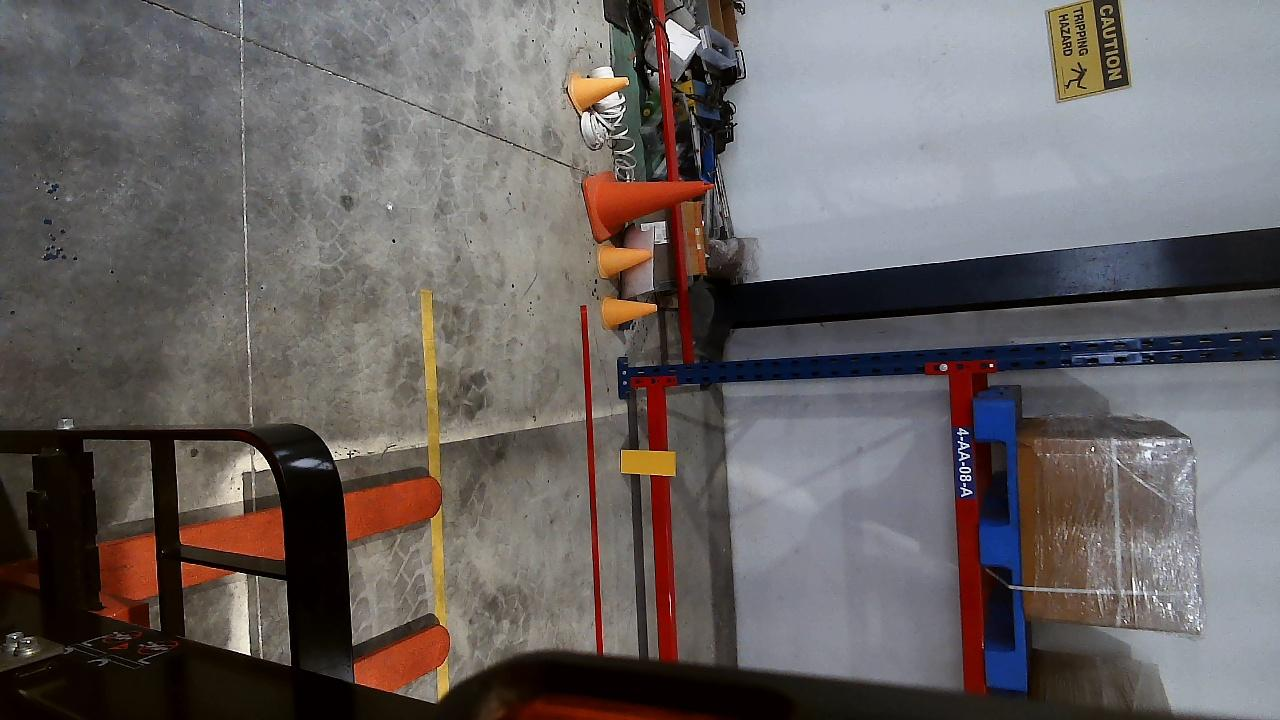h_rack: (947, 369, 988, 690), (646, 385, 677, 658)
orange_strip: (620, 450, 675, 476)
red_line: (576, 303, 606, 649)
small_pallet: (977, 398, 1027, 688)
yellow_line: (420, 286, 454, 694)
